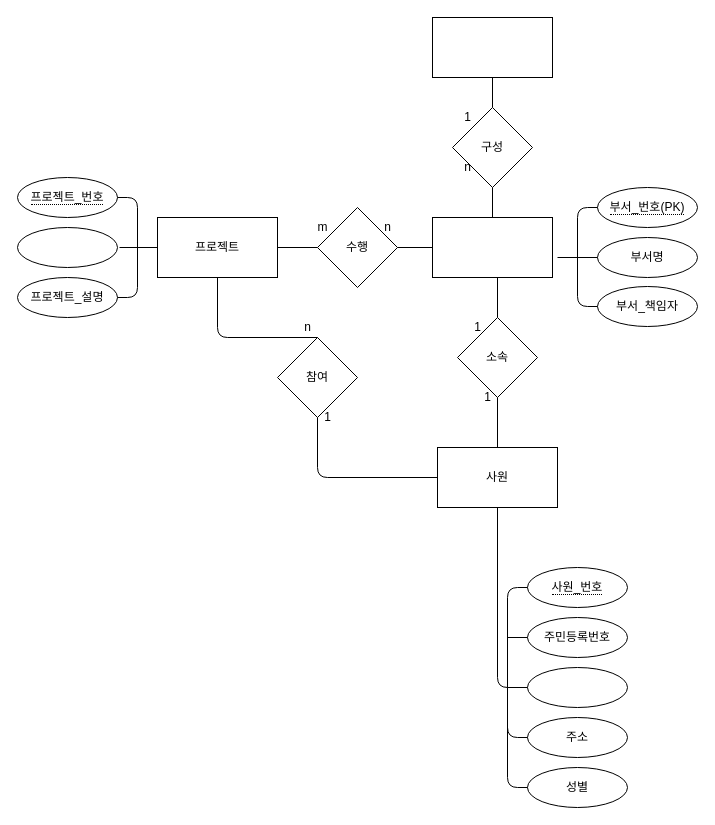
Image size: 715x825. Some labels were removed from this diagram. Each missing label, with the centre of its shape:
"부서" goes at [492,247].
"이름" goes at [577,687].
"프로젝트_이름" goes at [67,247].
"회사" goes at [492,47].
